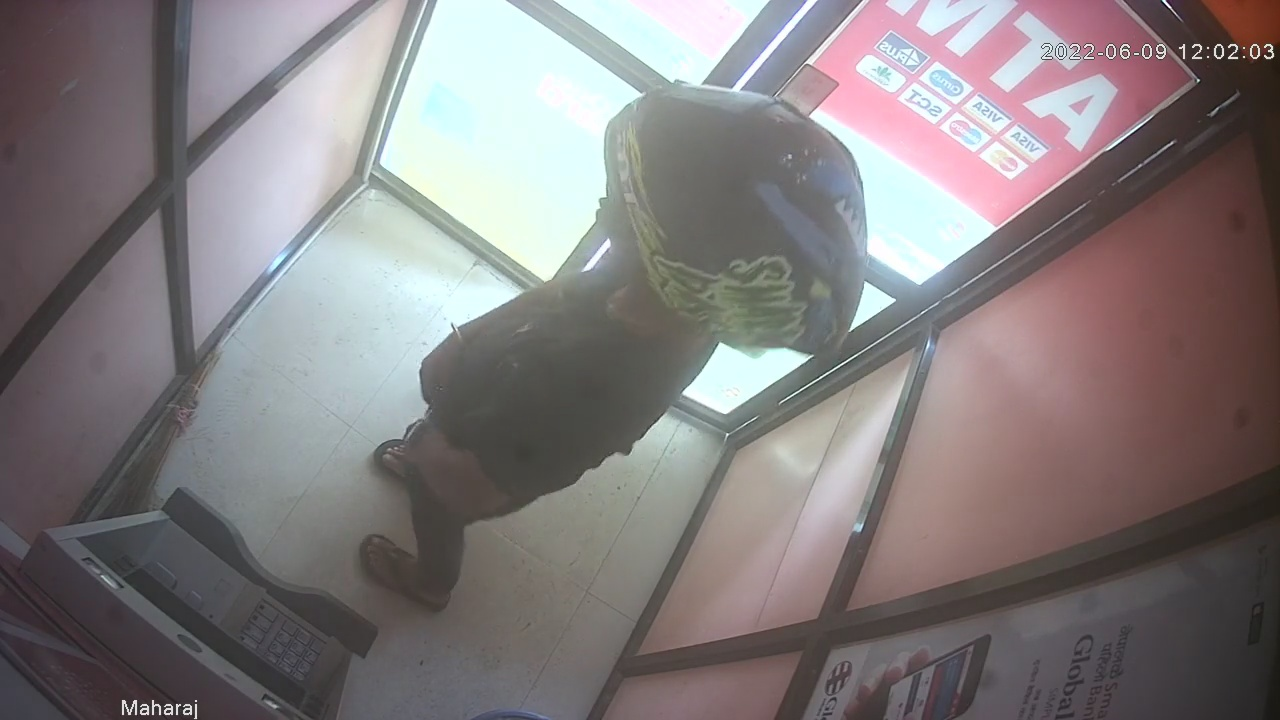helmet: (601, 77, 870, 360)
person: (356, 75, 870, 615)
